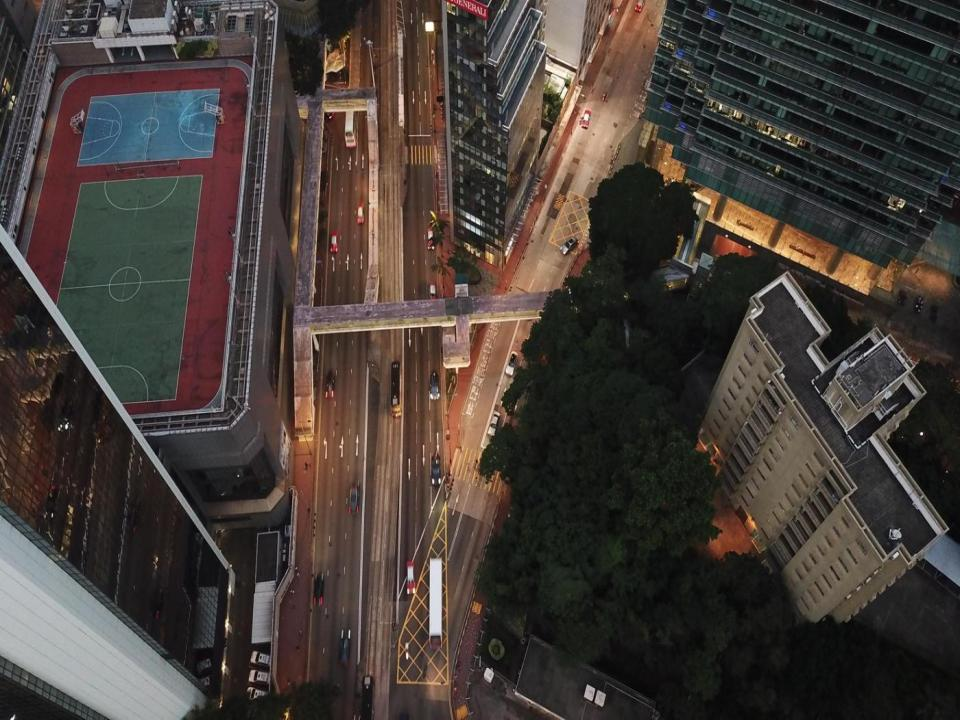bus: (428, 556, 445, 649), (344, 93, 357, 147), (391, 361, 401, 417), (362, 676, 374, 719)
car: (340, 629, 351, 664), (486, 412, 500, 438), (348, 481, 359, 514), (313, 572, 324, 605), (406, 560, 416, 594), (560, 237, 578, 255), (505, 352, 518, 376), (431, 452, 440, 486), (430, 371, 440, 399), (325, 371, 334, 397), (429, 280, 436, 304), (582, 110, 591, 128), (357, 201, 364, 223), (330, 230, 337, 252), (427, 228, 434, 250), (635, 0, 645, 12)
van: (247, 687, 272, 703), (248, 669, 272, 685), (250, 651, 272, 666)
